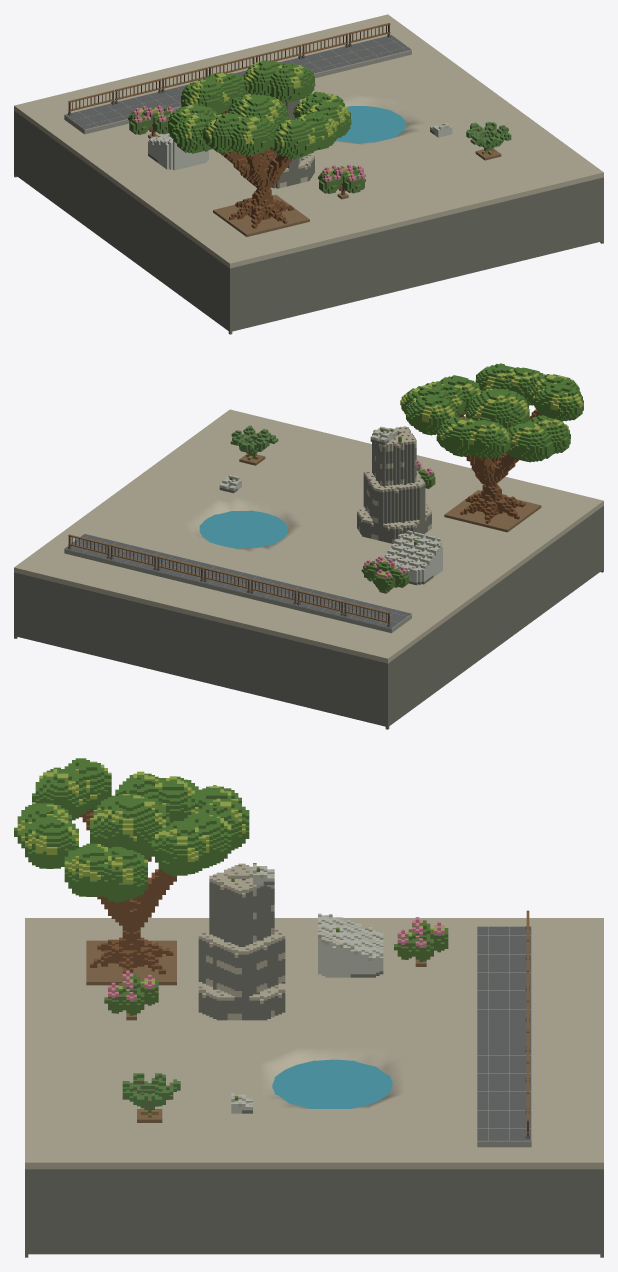
3 views of the same model, one above another, from view 1: azimuth 30°, elevation 25°; view 2: azimuth 150°, elevation 25°; view 3: azimuth 270°, elevation 25° (orthographic). The views are drawn at different scales.
Visible parts, largest first — view 1: 连续岩土实体与最小原生岩块, 阔叶分枝与开阔树冠母版, 分层实心台基与独立石铺面, 分枝灌木与花灌木母版 (×2), 同源床面裁切的真实水域, 贴地独立根域与表土, 灰白水蚀岸石组件, 中尺度破岩与独石装饰母版, 蕨类与阔叶地被簇母版; view 2: 连续岩土实体与最小原生岩块, 阔叶分枝与开阔树冠母版, 分层实心台基与独立石铺面, 中尺度破岩与独石装饰母版, 同源床面裁切的真实水域, 灰白水蚀岸石组件, 贴地独立根域与表土, 分枝灌木与花灌木母版, 蕨类与阔叶地被簇母版; view 3: 连续岩土实体与最小原生岩块, 阔叶分枝与开阔树冠母版, 分层实心台基与独立石铺面, 中尺度破岩与独石装饰母版, 同源床面裁切的真实水域, 灰白水蚀岸石组件, 分枝灌木与花灌木母版 (×2), 贴地独立根域与表土, 蕨类与阔叶地被簇母版.
Boxes of the visible parts, bbox=[...] form: 连续岩土实体与最小原生岩块: bbox=[14, 14, 603, 334]; 阔叶分枝与开阔树冠母版: bbox=[168, 60, 351, 228]; 分层实心台基与独立石铺面: bbox=[64, 35, 411, 134]; 分枝灌木与花灌木母版 (×2): bbox=[128, 105, 365, 195]; 同源床面裁切的真实水域: bbox=[336, 106, 405, 142]; 贴地独立根域与表土: bbox=[213, 194, 309, 236]; 灰白水蚀岸石组件: bbox=[148, 133, 208, 170]; 中尺度破岩与独石装饰母版: bbox=[240, 100, 314, 188]; 蕨类与阔叶地被簇母版: bbox=[466, 122, 511, 155]; 连续岩土实体与最小原生岩块: bbox=[14, 409, 603, 729]; 阔叶分枝与开阔树冠母版: bbox=[400, 363, 583, 523]; 分层实心台基与独立石铺面: bbox=[64, 534, 411, 633]; 中尺度破岩与独石装饰母版: bbox=[357, 426, 431, 543]; 同源床面裁切的真实水域: bbox=[199, 510, 287, 548]; 灰白水蚀岸石组件: bbox=[384, 530, 442, 585]; 贴地独立根域与表土: bbox=[444, 490, 541, 532]; 分枝灌木与花灌木母版: bbox=[361, 556, 408, 591]; 蕨类与阔叶地被簇母版: bbox=[230, 425, 278, 460]; 连续岩土实体与最小原生岩块: bbox=[25, 918, 603, 1257]; 阔叶分枝与开阔树冠母版: bbox=[14, 758, 249, 974]; 分层实心台基与独立石铺面: bbox=[477, 926, 531, 1147]; 中尺度破岩与独石装饰母版: bbox=[198, 863, 285, 1020]; 同源床面裁切的真实水域: bbox=[272, 1059, 392, 1108]; 灰白水蚀岸石组件: bbox=[318, 913, 383, 977]; 分枝灌木与花灌木母版 (×2): bbox=[104, 917, 448, 1015]; 贴地独立根域与表土: bbox=[86, 940, 176, 985]; 蕨类与阔叶地被簇母版: bbox=[122, 1073, 180, 1117].
Bounding box in the file's own units: 32.8 × 16 × 32.6.
22 materials, 21 textured.
